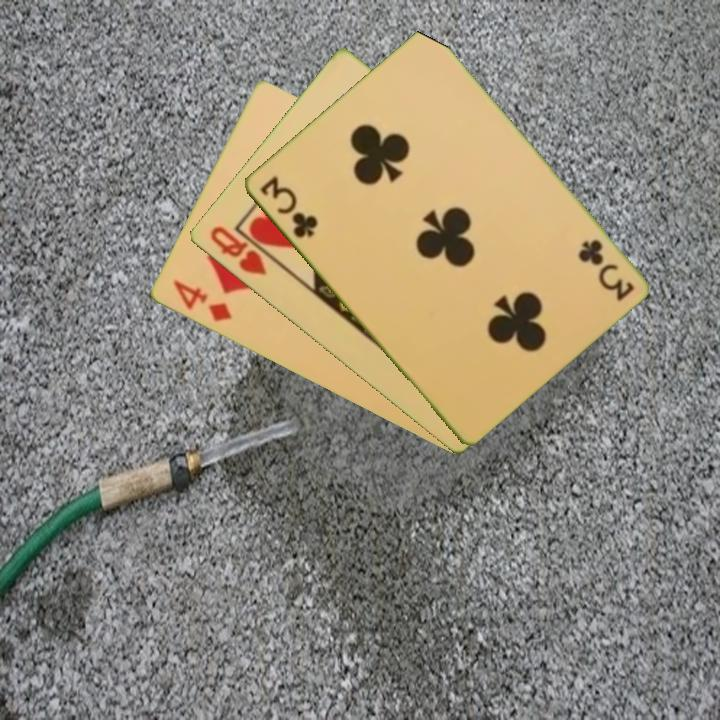3c: (256, 172, 320, 241), (574, 235, 637, 304)
4d: (168, 276, 234, 325)
Qh: (206, 222, 270, 279)
